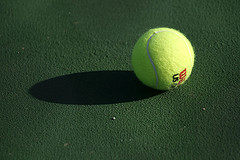tennis ball: (130, 27, 194, 90)
